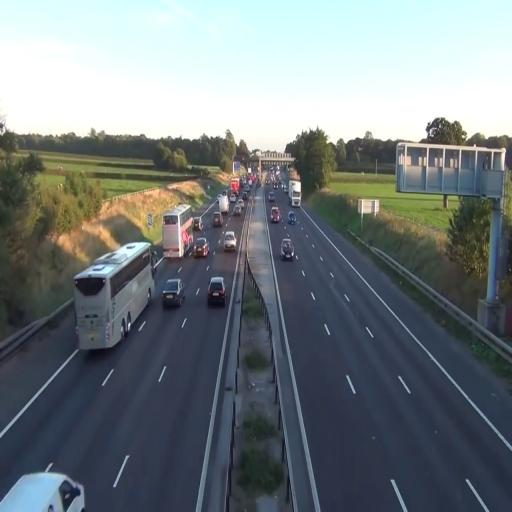vehicle: (72, 239, 156, 353), (0, 470, 86, 510), (162, 204, 195, 260), (162, 276, 184, 310), (207, 276, 226, 307), (280, 236, 296, 261), (193, 235, 209, 259), (222, 228, 237, 252), (271, 204, 281, 223), (287, 210, 295, 224)
